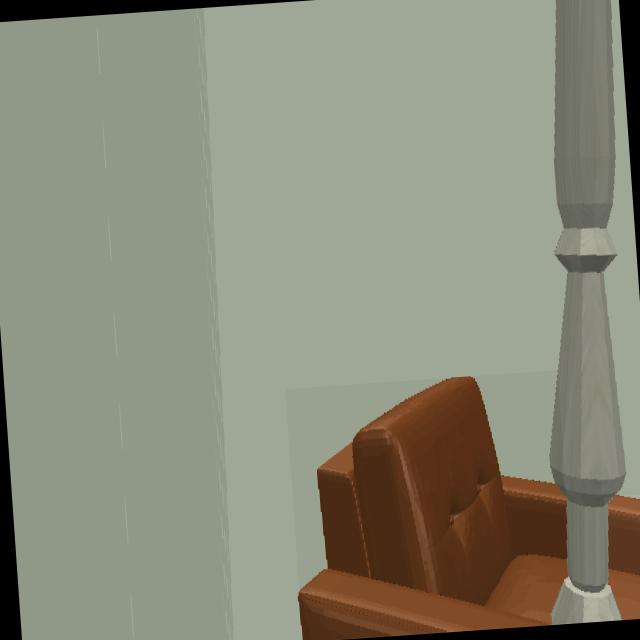sofa: (300, 377, 567, 640), (607, 496, 640, 620)
